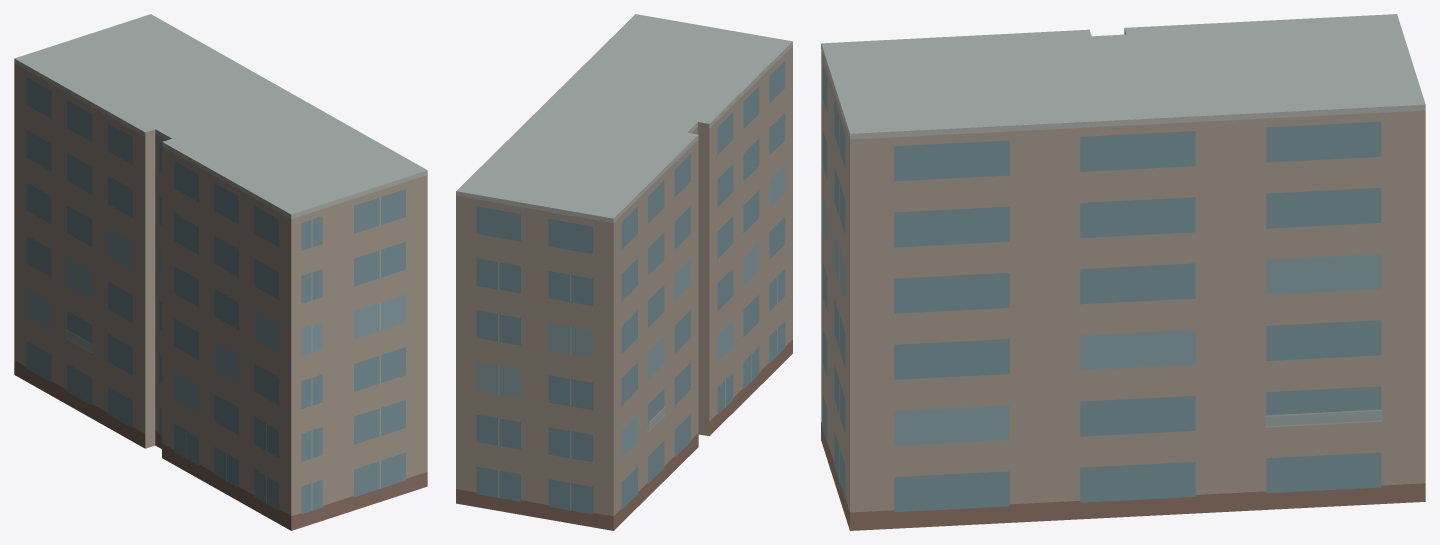
File: survey-upis-32996870.glb
The picture shows the model from 3 angles, left to right: view 1: azimuth 30°, elevation 25°; view 2: azimuth 150°, elevation 25°; view 3: azimuth 270°, elevation 25°; orthographic projection. The views are drawn at different scales.
Visible parts, largest first — view 1: survey-upis-32996870.tmp; view 2: survey-upis-32996870.tmp; view 3: survey-upis-32996870.tmp.
Boxes of the visible parts, x1,y1,x2,y2 form: survey-upis-32996870.tmp: [14, 14, 427, 530]; survey-upis-32996870.tmp: [456, 14, 792, 530]; survey-upis-32996870.tmp: [821, 14, 1425, 530].
Bounding box in the file's own units: 10.89 × 16.8 × 23.19.
